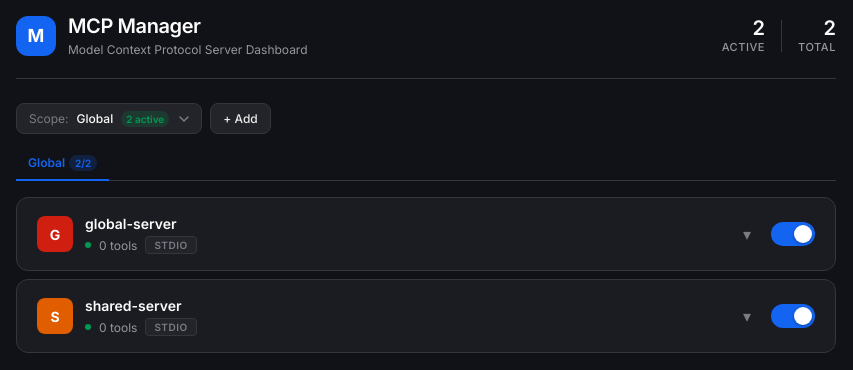
Test: FT-1: Workspace scope shows global + local servers › workspace scope shows both global and local servers across tabs
What coordinates should you click on to do the following:
click the button "Scope: Global 2 active"
I would click on:
 (109, 118)
Its box is [16,103,202,134].
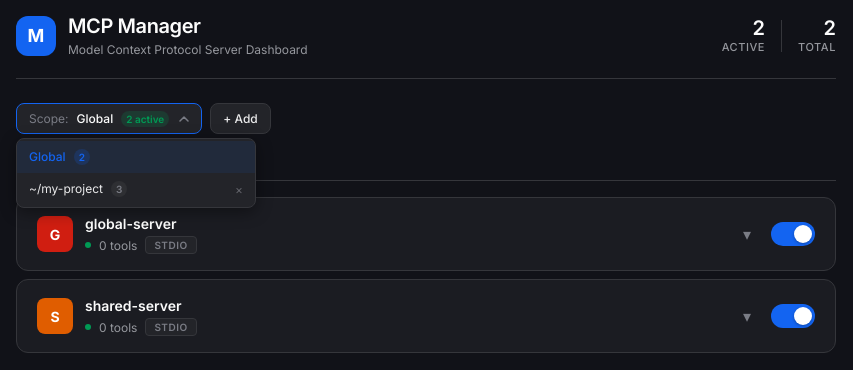
What coordinates should you click on to do the following:
click the button "~/my-project 3"
I would click on:
 (122, 189)
Its box is [17,173,227,205].
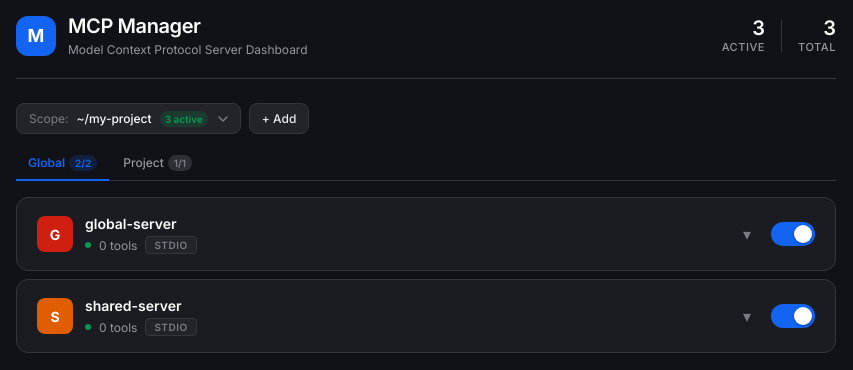
Expected: the text "global-server" is shown, [85,215,177,232]
Expected: the text "shared-server" is shown, [85,297,182,314]
What coordinates should you click on to do the following:
click the button "Project 1/1"
I would click on:
 (158, 164)
Its box is [111,146,204,181].
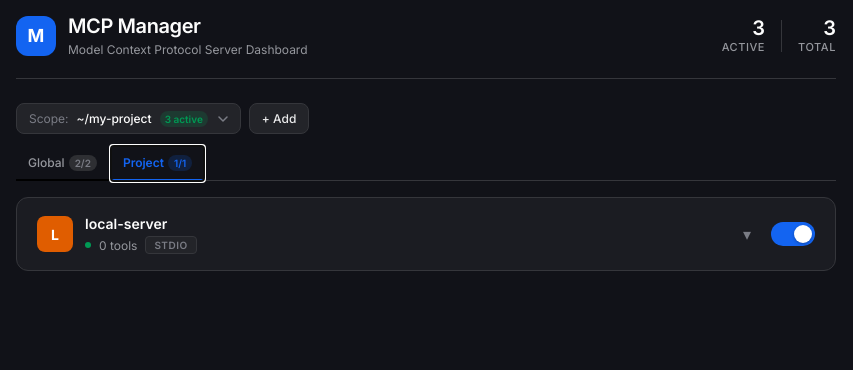
Expected: the text "local-server" is shown, [85,215,167,232]
